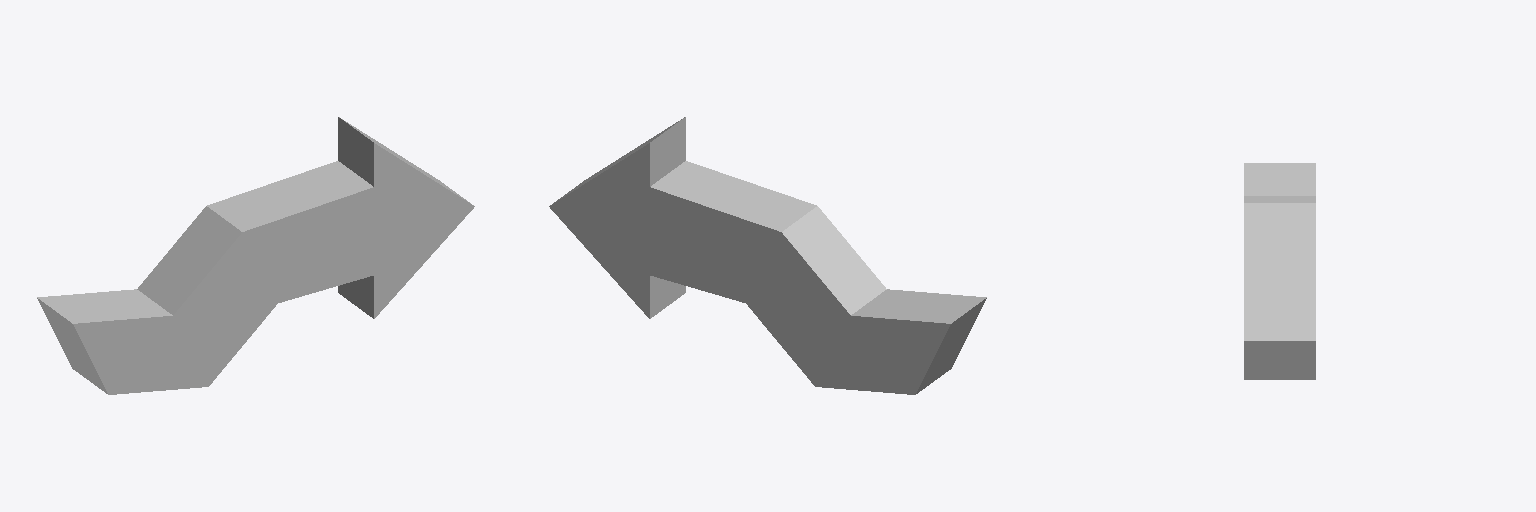
The model's file is Arrow_56.obj.
3 views of the same model, side by side, from view 1: azimuth 30°, elevation 25°; view 2: azimuth 150°, elevation 25°; view 3: azimuth 270°, elevation 25° (orthographic).
Visible parts, largest first — view 1: Arrow_56; view 2: Arrow_56; view 3: Arrow_56.
Part boxes in pixels (x1,y1,x2,y2): Arrow_56: (37,117,474,394); Arrow_56: (549,117,986,394); Arrow_56: (1244,163,1315,379).
Size of the model in its own units: 4.77 by 2.31 by 0.7423.